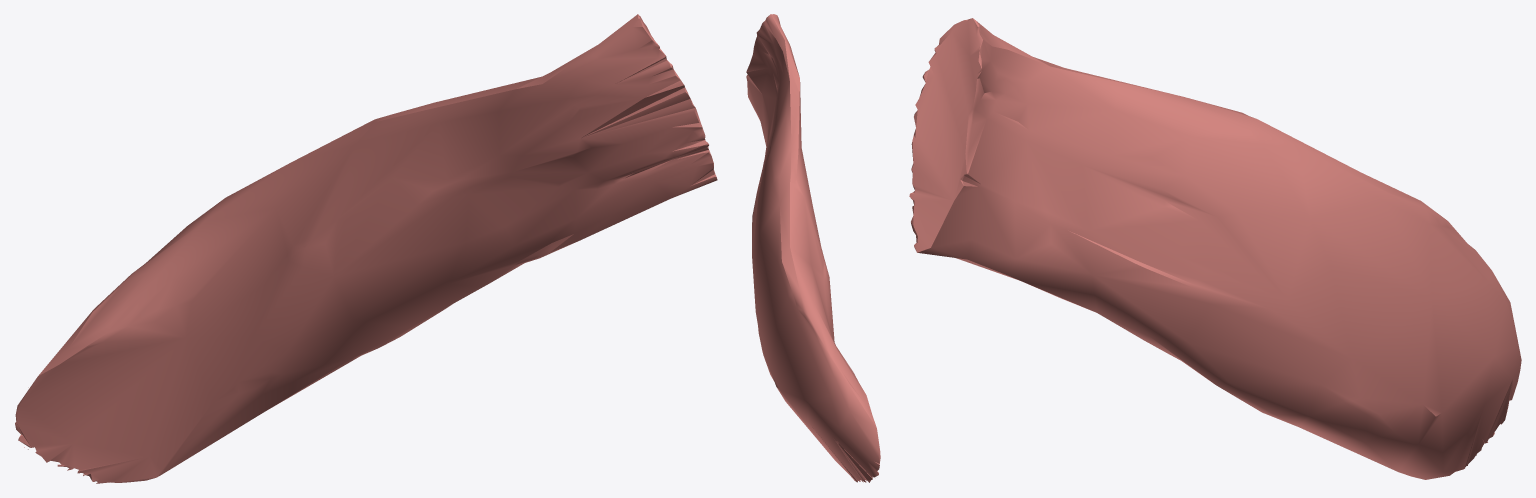
File: fma32552_fj1507m.glb
3 renders of one model, left to right at view 1: azimuth 30°, elevation 25°; view 2: azimuth 150°, elevation 25°; view 3: azimuth 270°, elevation 25°, orthographic. The views are drawn at different scales.
Parts seen in each view (by area): view 1: FMA32552_FJ1507M; view 2: FMA32552_FJ1507M; view 3: FMA32552_FJ1507M.
Boxes of the visible parts, x1,y1,x2,y2 form: FMA32552_FJ1507M: [15, 14, 717, 483]; FMA32552_FJ1507M: [746, 14, 880, 482]; FMA32552_FJ1507M: [909, 18, 1521, 479].
Bounding box in the file's own units: 0.0861 × 0.0957 × 0.0811.
